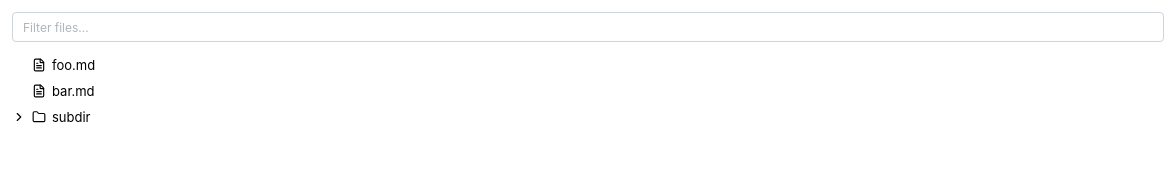
Test case: TreeSidebar › groups files under a directory that expands on click
Expected: the text "foobar.md" is not shown
What coordinates should you click on to do the following:
click the text "subdir"
I would click on:
 (71, 117)
Its box is [52, 107, 90, 127].
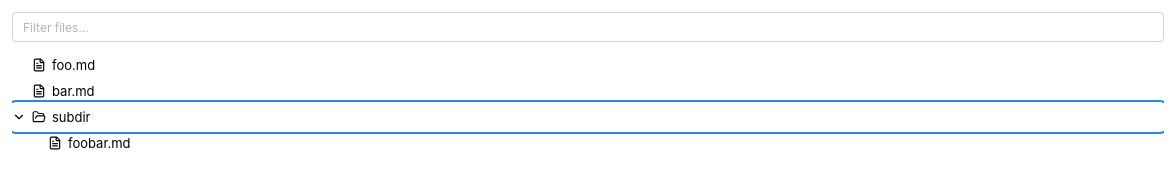
Expected: the text "foobar.md" is shown, [68, 133, 131, 154]
